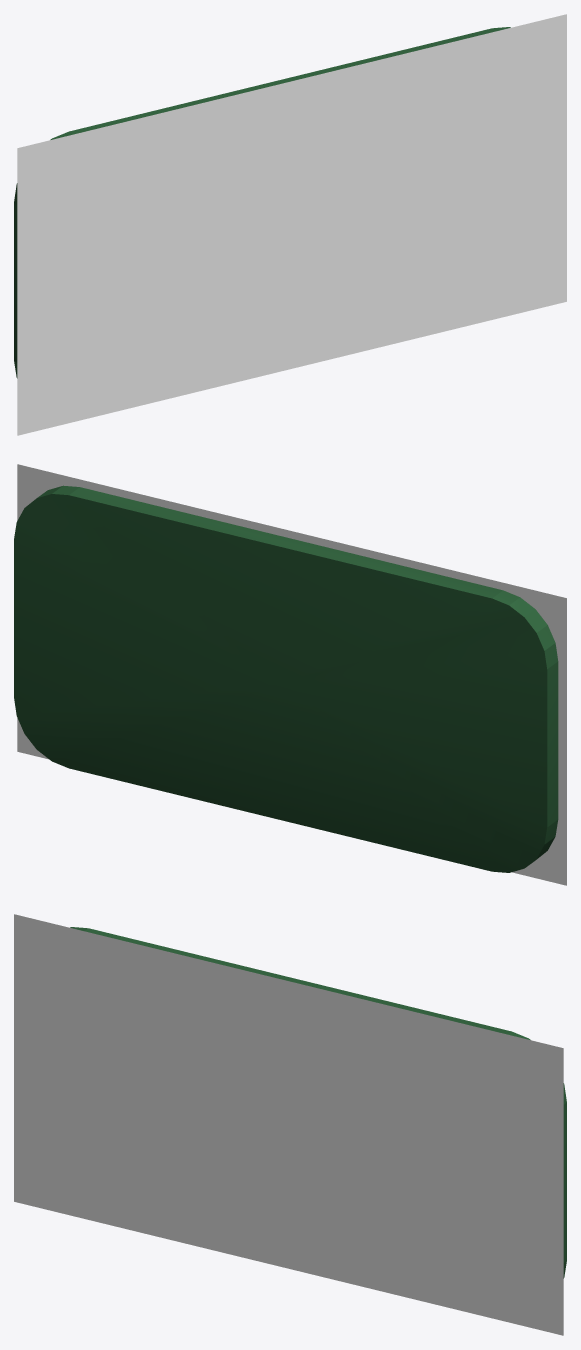
Rendered from furn_sign_restaurant.glb.
The picture shows the model from 3 angles, top to bottom: view 1: azimuth 30°, elevation 25°; view 2: azimuth 150°, elevation 25°; view 3: azimuth 330°, elevation 25°; orthographic projection.
Parts seen in each view (by area): view 1: furn_sign_restaurant_pic, furn_sign_restaurant_main; view 2: furn_sign_restaurant_main, furn_sign_restaurant_pic; view 3: furn_sign_restaurant_pic, furn_sign_restaurant_main.
Boxes of the visible parts, x1=… form: furn_sign_restaurant_pic: x1=17, y1=14, x2=566, y2=435; furn_sign_restaurant_main: x1=14, y1=27, x2=510, y2=378; furn_sign_restaurant_main: x1=14, y1=485, x2=558, y2=872; furn_sign_restaurant_pic: x1=17, y1=464, x2=566, y2=885; furn_sign_restaurant_pic: x1=14, y1=914, x2=563, y2=1335; furn_sign_restaurant_main: x1=70, y1=927, x2=566, y2=1278.
Size of the model in its own units: 2 by 1 by 0.073.
